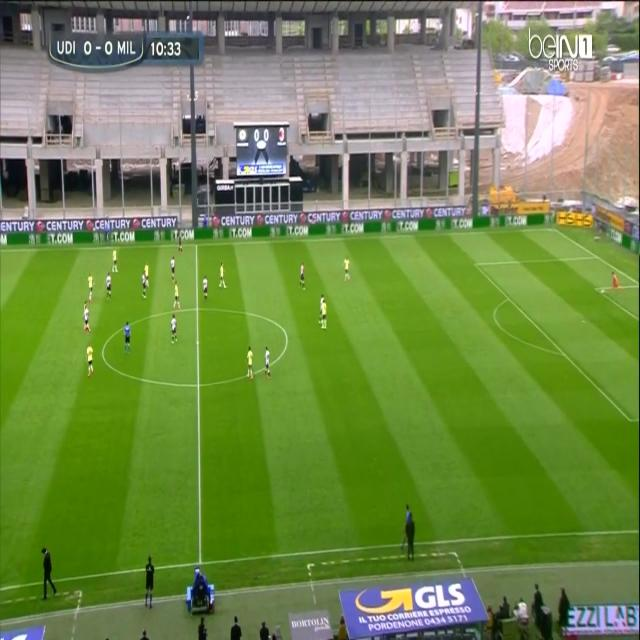Ball: (600, 287, 606, 296)
Goalkeeper: (608, 265, 623, 295)
Player: (85, 341, 97, 382), (244, 343, 255, 384), (170, 278, 182, 312), (169, 312, 180, 347), (85, 271, 96, 305), (81, 303, 92, 335), (297, 260, 307, 294), (218, 260, 228, 294), (342, 253, 352, 285), (263, 343, 272, 378), (169, 254, 179, 284), (321, 295, 328, 334), (201, 274, 210, 304), (111, 246, 119, 279), (140, 270, 148, 301), (105, 270, 113, 300), (143, 260, 151, 289), (176, 232, 185, 255)
Referee: (122, 323, 134, 353)
